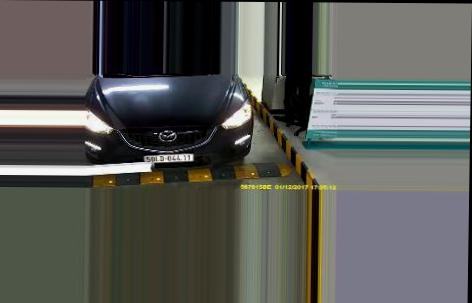License_Plate: (144, 150, 197, 163)
